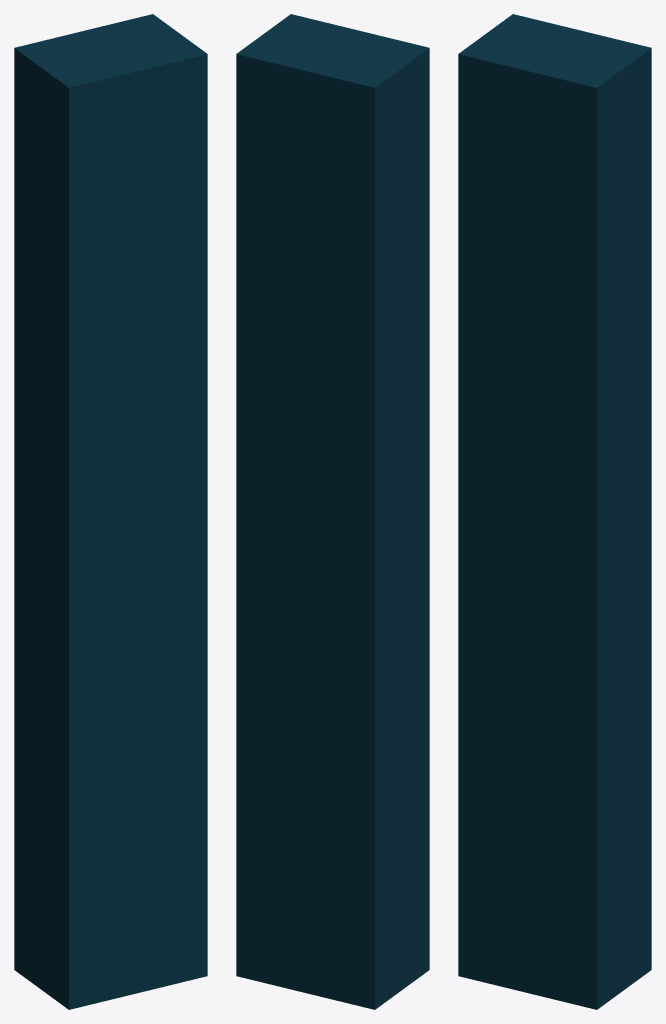
The model's file is Itr_Obj_Monitor_LCD_Neck_03.FBX.
3 views of the same model, side by side, from view 1: azimuth 30°, elevation 25°; view 2: azimuth 150°, elevation 25°; view 3: azimuth 330°, elevation 25° (orthographic).
Visible parts, largest first — view 1: Itr_Obj_Monitor_LCD_Neck_03; view 2: Itr_Obj_Monitor_LCD_Neck_03; view 3: Itr_Obj_Monitor_LCD_Neck_03.
Part boxes in pixels (x1,y1,x2,y2): Itr_Obj_Monitor_LCD_Neck_03: (14, 14, 207, 1009); Itr_Obj_Monitor_LCD_Neck_03: (236, 14, 429, 1009); Itr_Obj_Monitor_LCD_Neck_03: (458, 14, 651, 1009).
Size of the model in its own units: 5.01 by 31.78 by 3.42.
